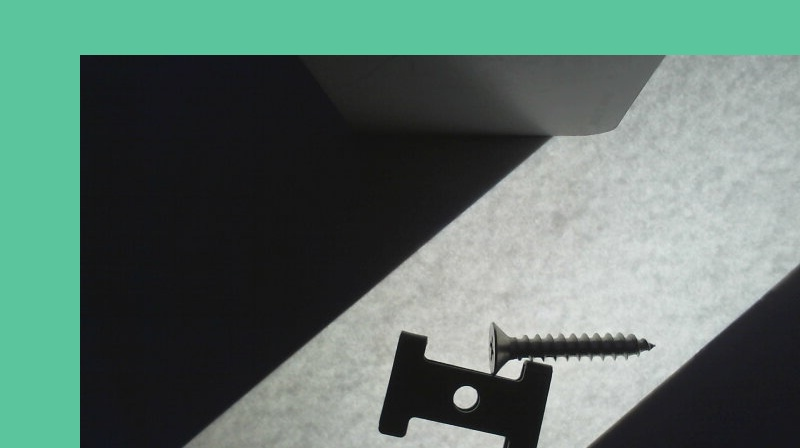O002: (376, 327, 551, 447)
S001: (485, 321, 657, 374)
